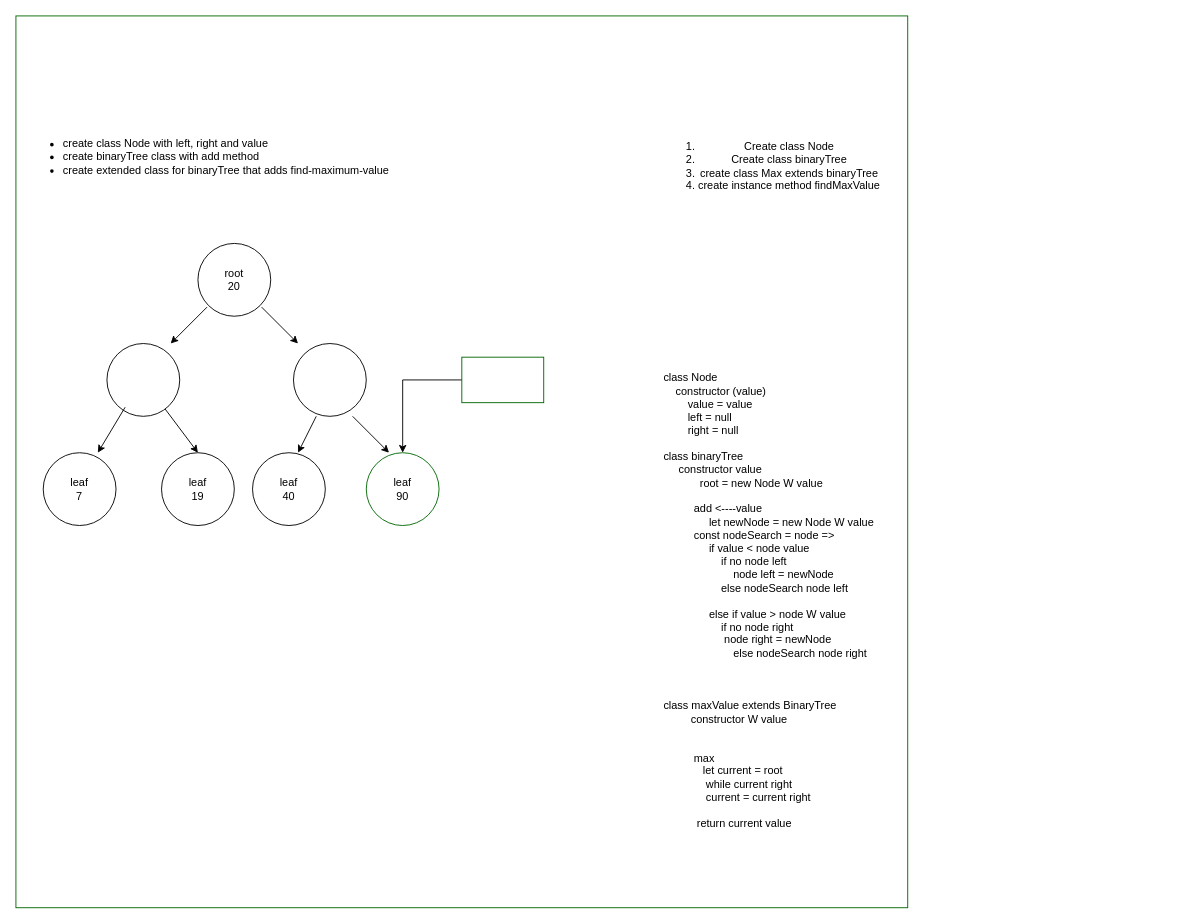
This 1197x924 diagram has some shape labels left out. Here are the shapes that lost their labels. From the top down, the box of each, then its label:
(106, 343, 180, 416): child 15
(293, 343, 366, 416): child 50
(461, 356, 544, 403): Max value
